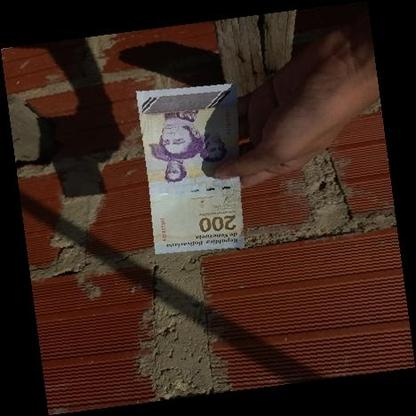two_hundred-front-vef: (134, 80, 245, 256)
